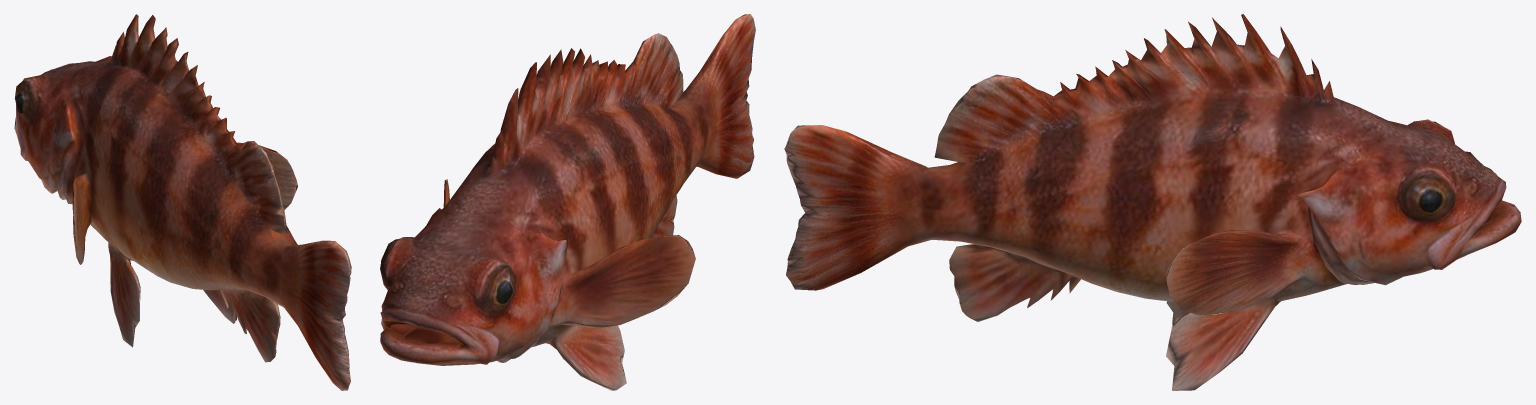
Rendered from rockfish.glb.
3 views of the same model, side by side, from view 1: azimuth 30°, elevation 25°; view 2: azimuth 150°, elevation 25°; view 3: azimuth 270°, elevation 25° (orthographic). The views are drawn at different scales.
Parts seen in each view (by area): view 1: tripo_node_63912522-6146-4194-aff2-2d815fe400bb; view 2: tripo_node_63912522-6146-4194-aff2-2d815fe400bb; view 3: tripo_node_63912522-6146-4194-aff2-2d815fe400bb.
Part boxes in pixels (x1=…): tripo_node_63912522-6146-4194-aff2-2d815fe400bb: x1=14, y1=14, x2=351, y2=390; tripo_node_63912522-6146-4194-aff2-2d815fe400bb: x1=380, y1=14, x2=755, y2=390; tripo_node_63912522-6146-4194-aff2-2d815fe400bb: x1=784, y1=14, x2=1521, y2=390.
Size of the model in its own units: 0.4073 by 0.522 by 1.
Materials: 1 (1 with a texture image).
